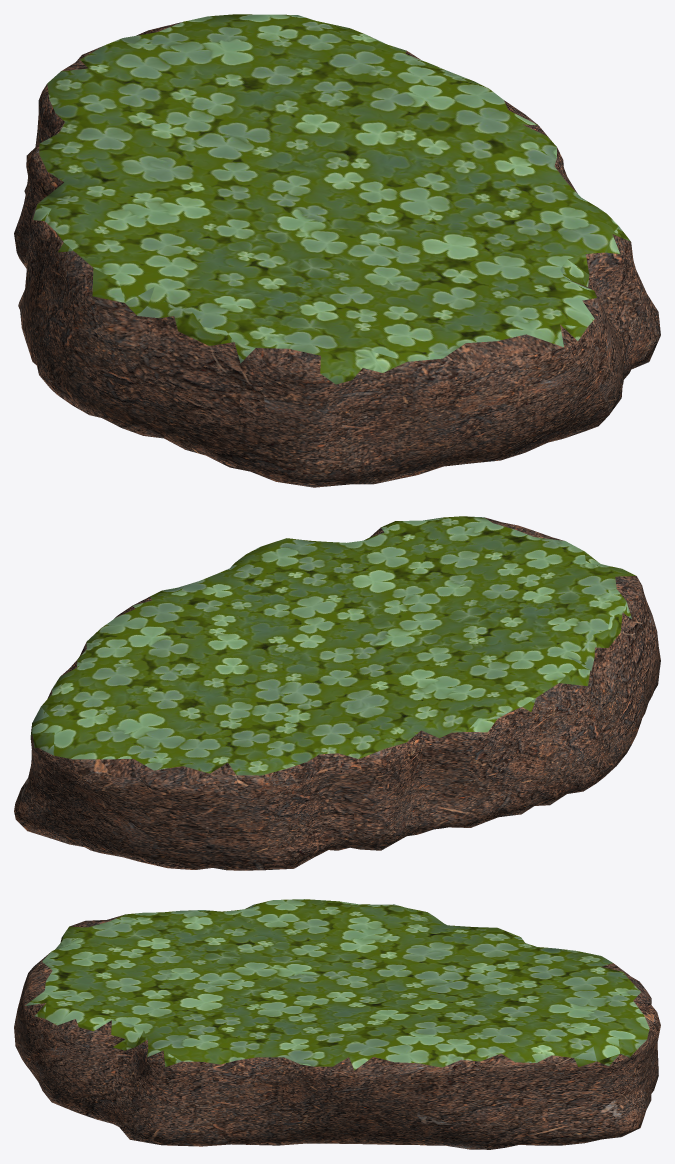
Rendered from CavePlatform3A_2cl.fbx.
The picture shows the model from 3 angles, top to bottom: view 1: azimuth 30°, elevation 25°; view 2: azimuth 150°, elevation 25°; view 3: azimuth 270°, elevation 25°; orthographic projection. The views are drawn at different scales.
Visible parts, largest first — view 1: CavePlatform3A; view 2: CavePlatform3A; view 3: CavePlatform3A.
Part boxes in pixels (left/top/right/bottom): CavePlatform3A: left=14, top=14, right=660, bottom=487; CavePlatform3A: left=14, top=516, right=660, bottom=870; CavePlatform3A: left=14, top=899, right=660, bottom=1149.
Bounding box in the file's own units: 679 × 162 × 973.
